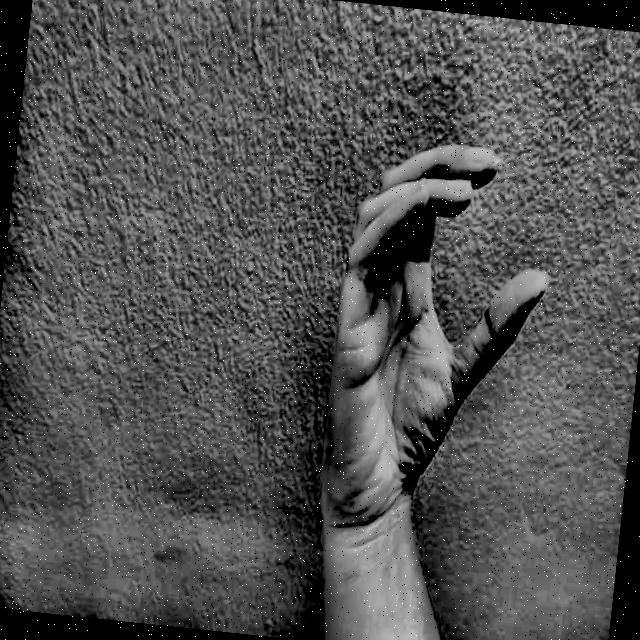A: (281, 105, 587, 574)
